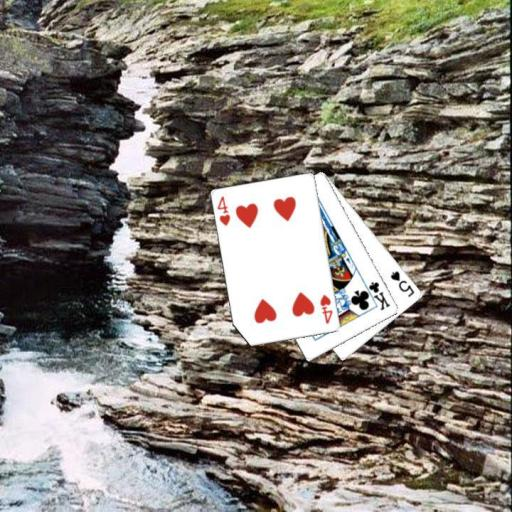4H: (214, 194, 232, 228), (317, 292, 334, 325)
5S: (388, 267, 416, 299)
KC: (360, 279, 392, 312)
